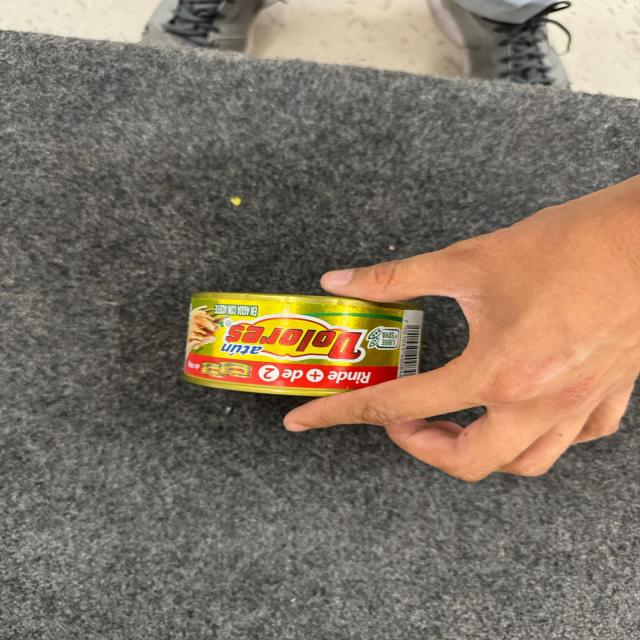Atun Dolores aceite 295gr lata: (182, 292, 427, 398)
